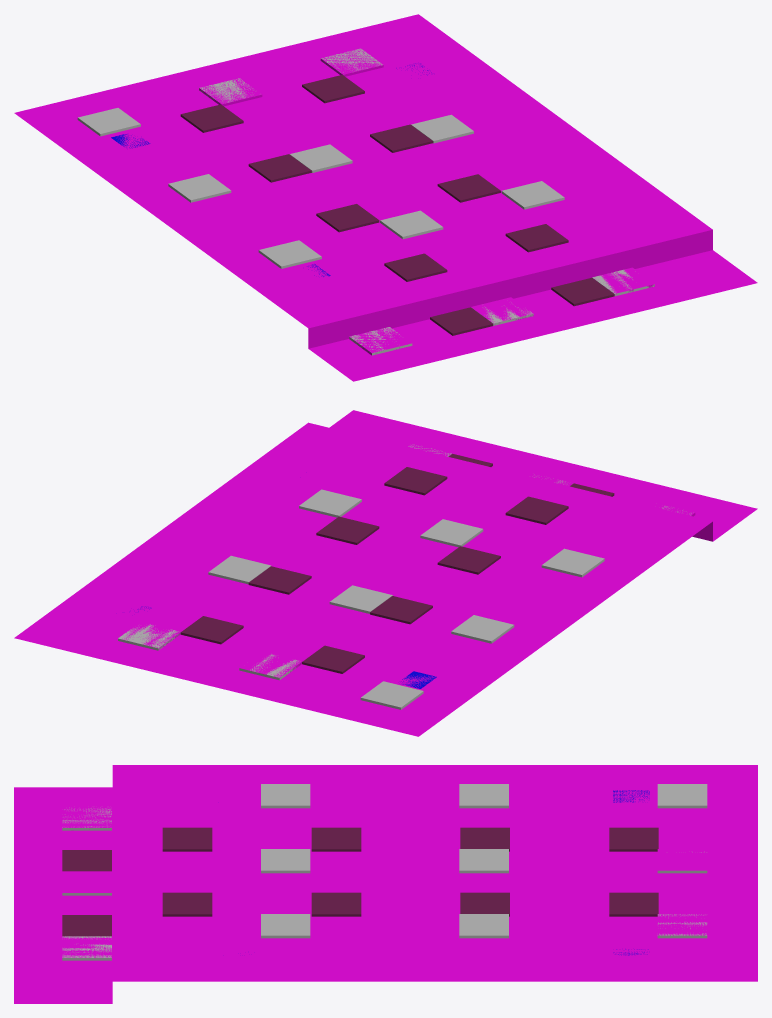
The model's file is Techo.fbx.
3 renders of one model, top to bottom at view 1: azimuth 30°, elevation 25°; view 2: azimuth 150°, elevation 25°; view 3: azimuth 270°, elevation 25°, orthographic. The views are drawn at different scales.
Visible parts, largest first — view 1: Techo, Ventilación, Luces; view 2: Techo, Luces, Ventilación; view 3: Techo, Ventilación, Luces.
Part boxes in pixels (box(x1,y1,x2,y2)): Techo: box(14, 14, 757, 381); Ventilación: box(180, 75, 614, 335); Luces: box(77, 48, 654, 355); Techo: box(14, 410, 757, 736); Luces: box(118, 444, 693, 709); Ventilación: box(180, 454, 614, 673); Techo: box(14, 765, 757, 1003); Ventilación: box(62, 827, 658, 936); Luces: box(62, 784, 707, 960).
Bounding box in the file's own units: 6.23 × 0.3435 × 9.05.
